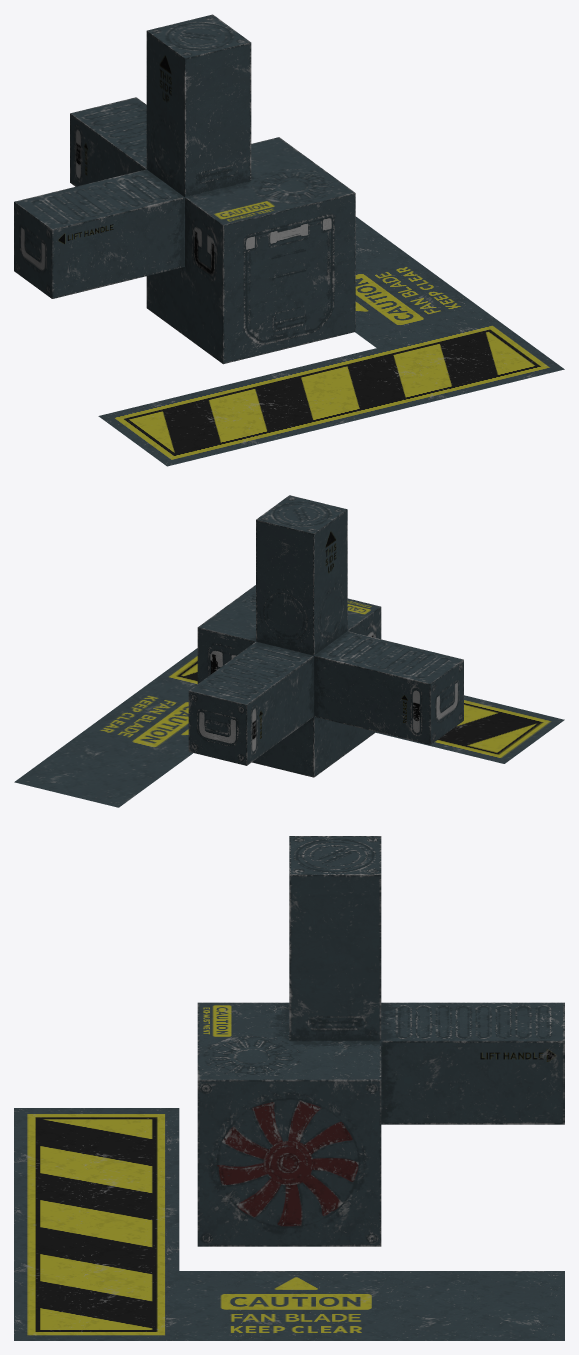
Rendered from Node_NegativeScale_00.gltf.
The picture shows the model from 3 angles, top to bottom: view 1: azimuth 30°, elevation 25°; view 2: azimuth 150°, elevation 25°; view 3: azimuth 270°, elevation 25°; orthographic projection. The views are drawn at different scales.
Parts seen in each view (by area): view 1: Node1, Node0; view 2: Node1, Node0; view 3: Node1, Node0.
Boxes of the visible parts, bbox=[...] form: Node1: bbox=[14, 14, 355, 364]; Node0: bbox=[98, 216, 564, 466]; Node1: bbox=[188, 495, 463, 777]; Node0: bbox=[14, 648, 564, 807]; Node1: bbox=[197, 836, 564, 1246]; Node0: bbox=[14, 1108, 564, 1340].
Bounding box in the file's own units: 15 × 10.5 × 15.
Materials: 2 (2 with a texture image).
